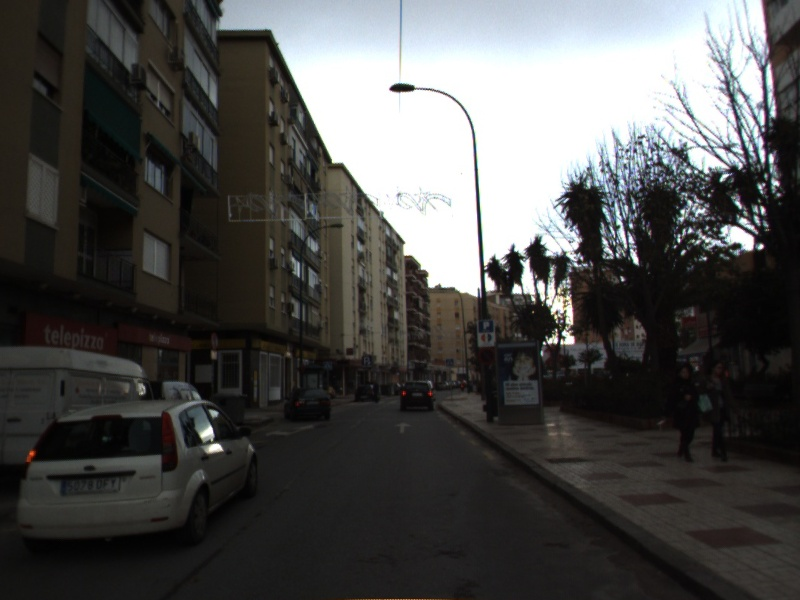STRAIGHT: (393, 420, 414, 436)
STRAIGHT_LEFT: (263, 423, 316, 438)
